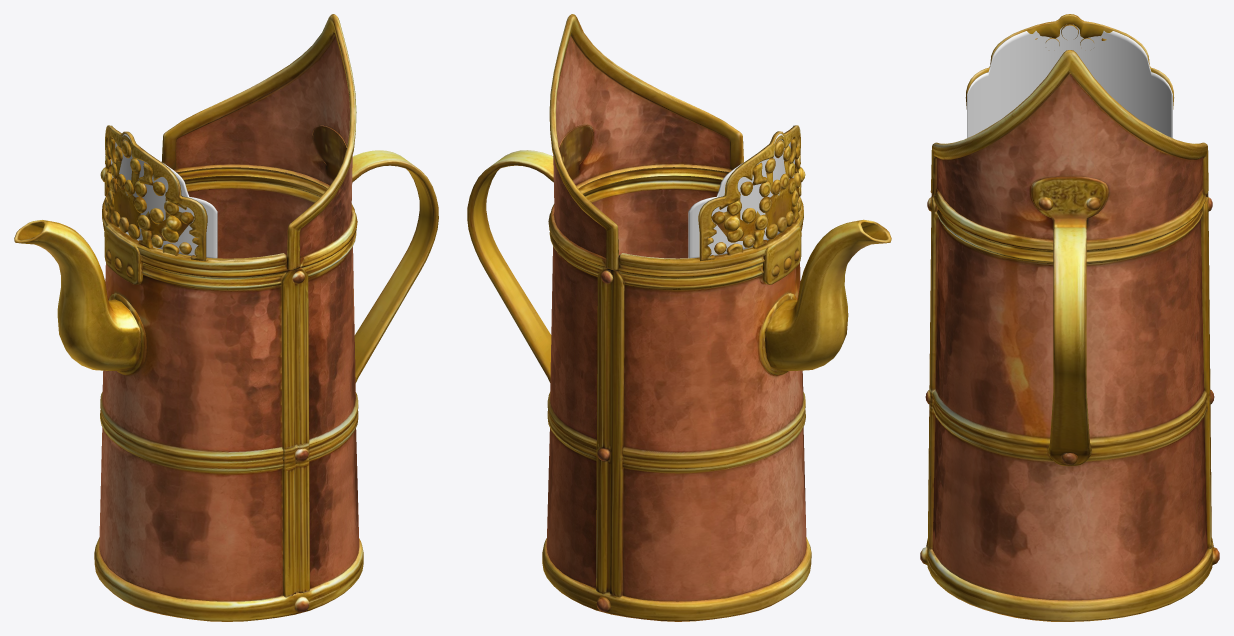
File: vessel-copper.glb
3 renders of one model, left to right at view 1: azimuth 30°, elevation 25°; view 2: azimuth 150°, elevation 25°; view 3: azimuth 270°, elevation 25°, orthographic. The views are drawn at different scales.
Visible parts, largest first — view 1: 原型对照_铜制水壶3d模型; view 2: 原型对照_铜制水壶3d模型; view 3: 原型对照_铜制水壶3d模型.
Part boxes in pixels (x1,y1,x2,y2): 原型对照_铜制水壶3d模型: [14, 14, 438, 621]; 原型对照_铜制水壶3d模型: [467, 14, 891, 621]; 原型对照_铜制水壶3d模型: [920, 14, 1219, 621].
Size of the model in its own units: 0.1492 by 0.18 by 0.0861.
Materials: 2 (1 with a texture image).
